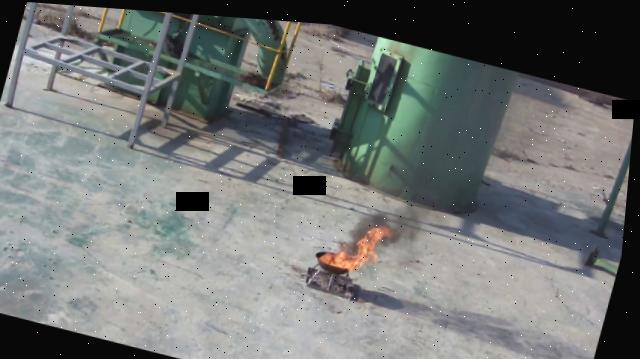fire: (322, 205, 399, 272)
smoke: (337, 182, 430, 271)
